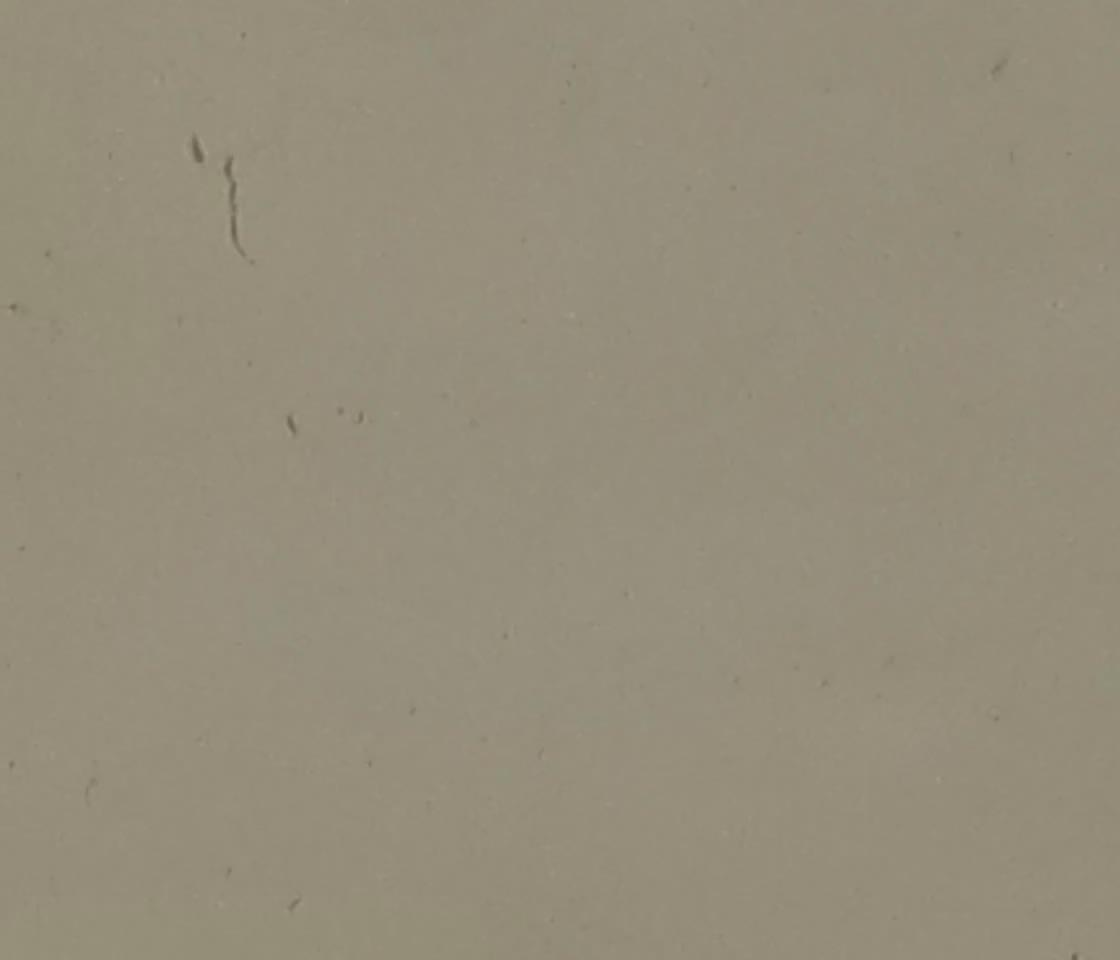scratch: (216, 155, 255, 267), (281, 412, 300, 440)
